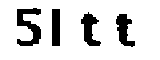5: (10, 6, 46, 52)
I: (48, 4, 72, 52)
t: (77, 8, 104, 55), (113, 12, 139, 50)
